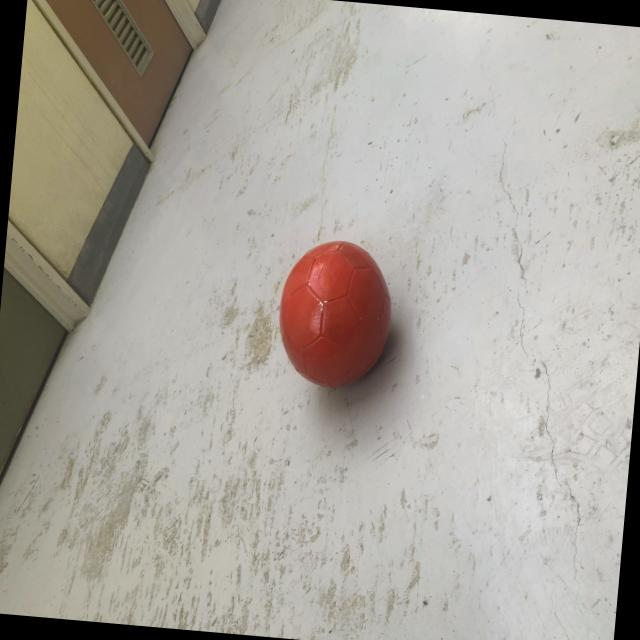red_ball: (273, 238, 399, 392)
